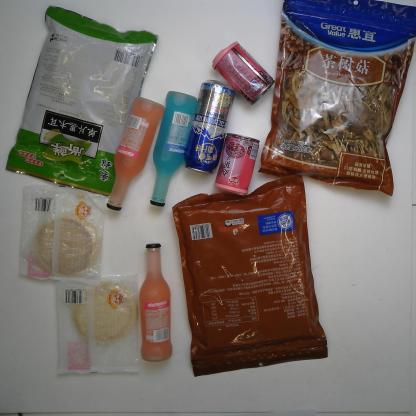Alcohol: (101, 94, 167, 212), (145, 87, 201, 208), (181, 75, 236, 178), (132, 237, 173, 365)
Canned Food: (208, 37, 276, 108), (210, 128, 264, 197)
Dessert: (47, 266, 144, 382), (12, 183, 109, 286)
Dried Food: (169, 172, 333, 380), (258, 2, 416, 198), (4, 5, 158, 201)
